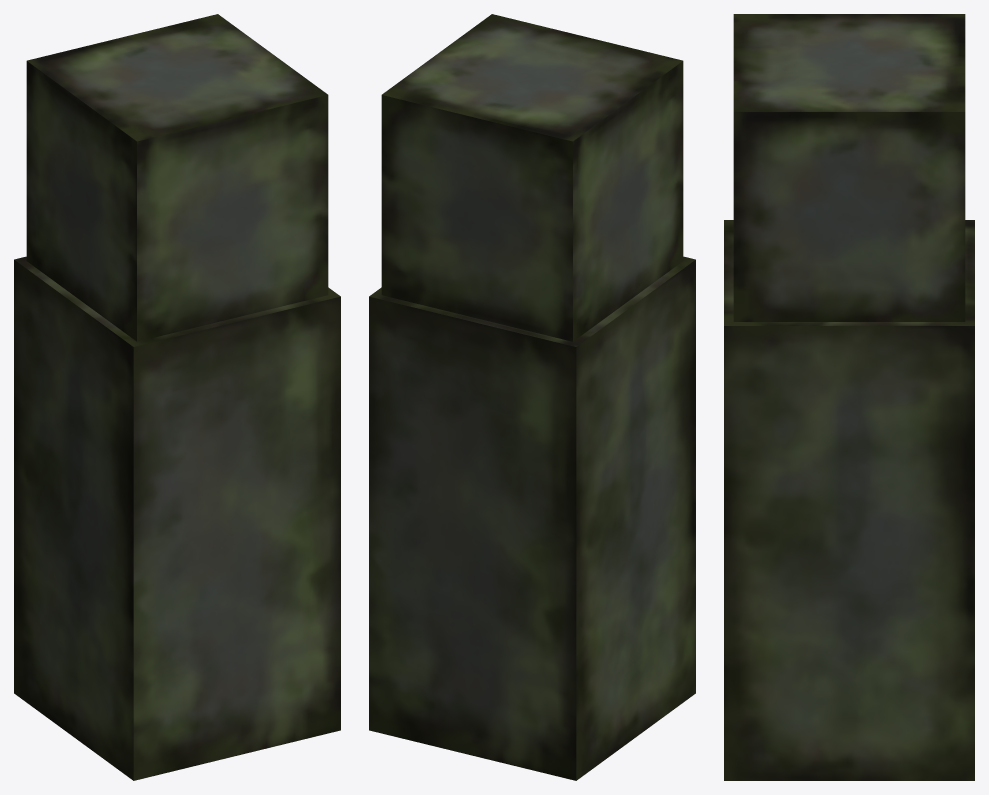
Rendered from pillar-03.fbx.
The picture shows the model from 3 angles, left to right: view 1: azimuth 30°, elevation 25°; view 2: azimuth 150°, elevation 25°; view 3: azimuth 270°, elevation 25°; orthographic projection. The views are drawn at different scales.
Visible parts, largest first — view 1: pillar_3; view 2: pillar_3; view 3: pillar_3.
Boxes of the visible parts, x1,y1,x2,y2 form: pillar_3: (14,14,340,780); pillar_3: (369,14,695,780); pillar_3: (724,14,974,780).
Size of the model in its own units: 100 by 292 by 100.
